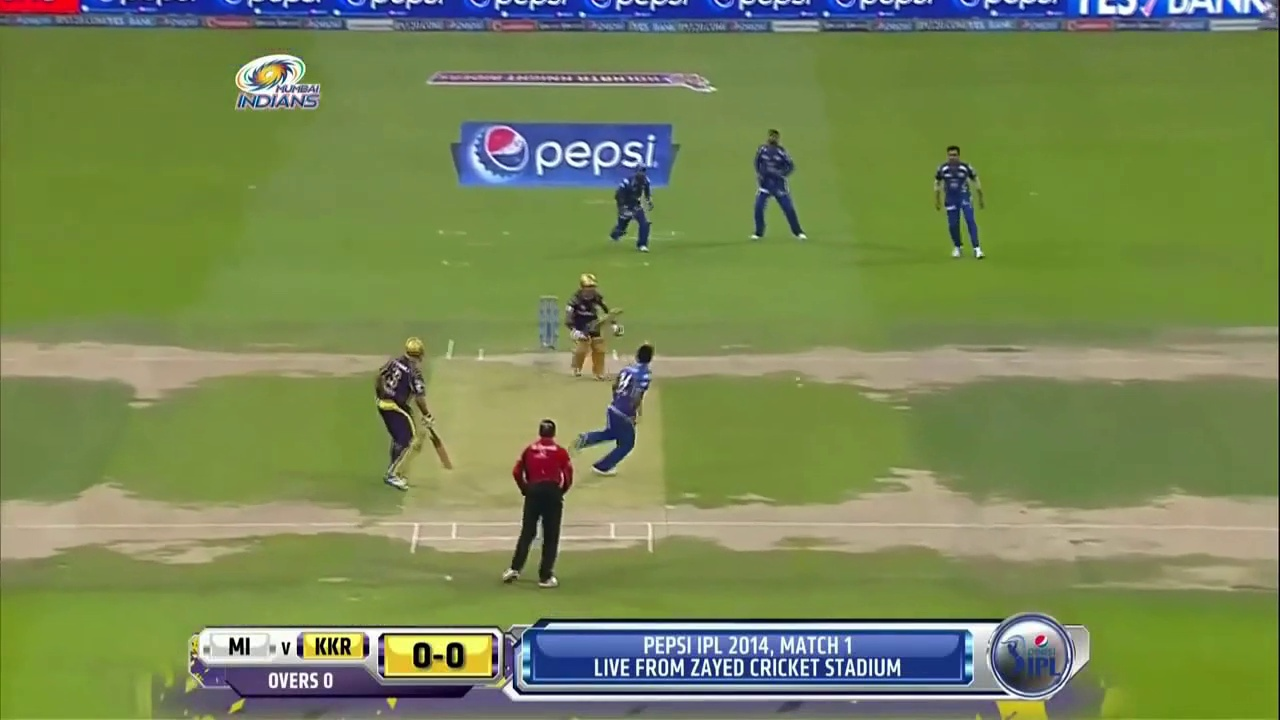bat: (428, 429, 453, 470)
